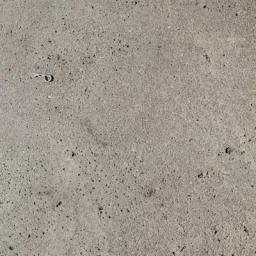FOD: (27, 72, 58, 84)
